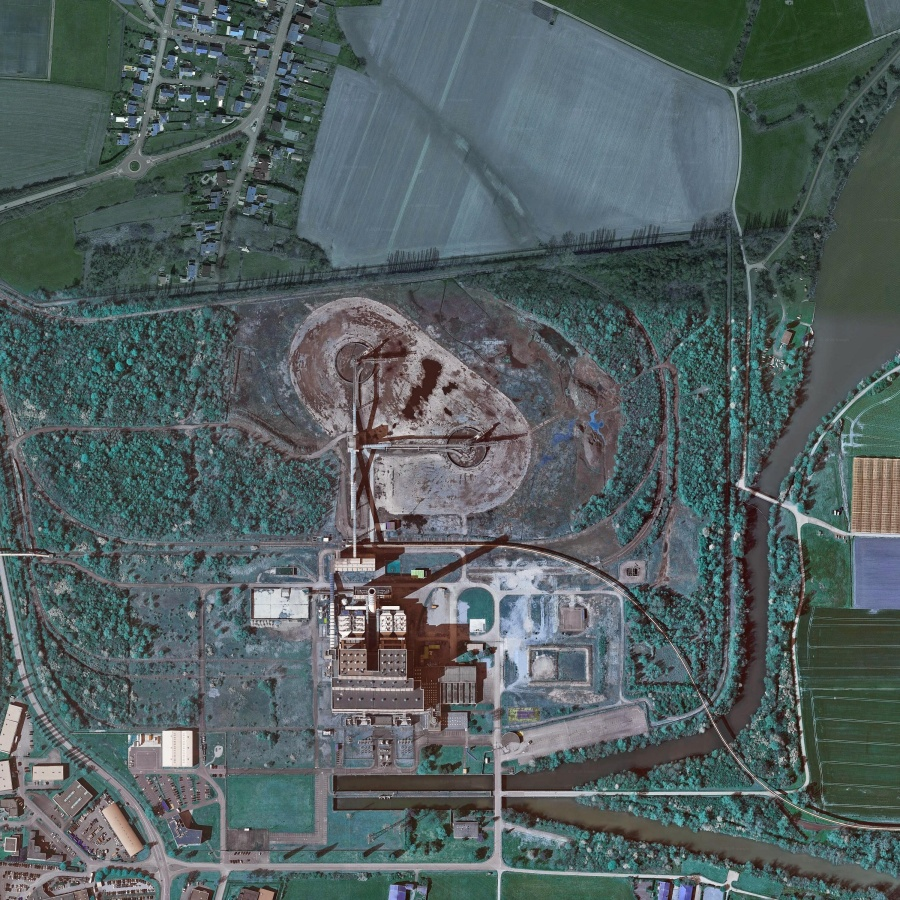PowerPlant: (257, 297, 530, 723)
